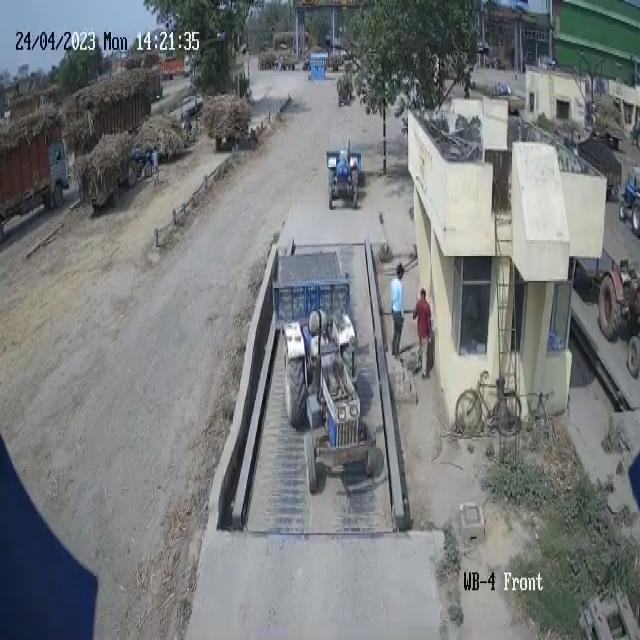Tratores - v5 YOLO V8L 2024-11-13: (276, 318, 380, 486), (598, 255, 640, 376), (324, 144, 364, 212), (121, 137, 156, 186), (622, 171, 640, 235)
